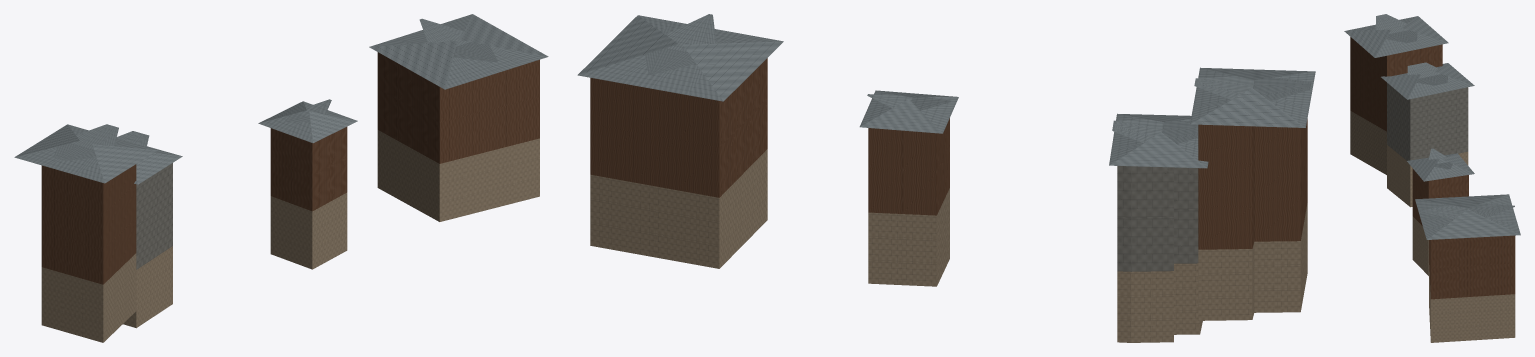
File: bld_c21_31_375.gltf
3 renders of one model, left to right at view 1: azimuth 30°, elevation 25°; view 2: azimuth 150°, elevation 25°; view 3: azimuth 270°, elevation 25°, orthographic. The views are drawn at different scales.
Parts seen in each view (by area): view 1: bld_c21_31_375; view 2: bld_c21_31_375; view 3: bld_c21_31_375.
Part boxes in pixels (<box>): bld_c21_31_375: <box>14,14,548,342</box>; bld_c21_31_375: <box>577,14,1315,342</box>; bld_c21_31_375: <box>1344,14,1520,342</box>.
Size of the model in its own units: 49.58 by 16.9 by 18.76.
Materials: 4 (4 with a texture image).
